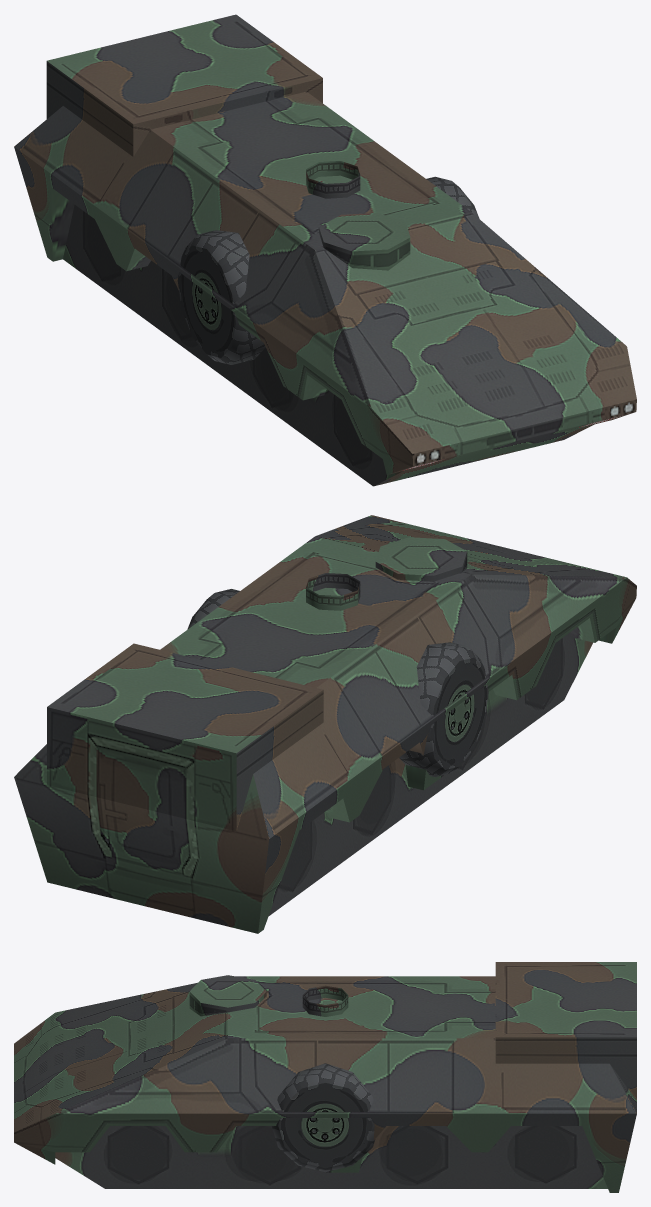
The model's file is Vehicle_APC.fbx.
3 renders of one model, top to bottom at view 1: azimuth 30°, elevation 25°; view 2: azimuth 150°, elevation 25°; view 3: azimuth 270°, elevation 25°, orthographic. The views are drawn at different scales.
Parts seen in each view (by area): view 1: APC_body, Wheels; view 2: APC_body, Wheels; view 3: APC_body, Wheels.
Part boxes in pixels (x1=…): APC_body: x1=14, y1=14, x2=636, y2=486; Wheels: x1=177, y1=176, x2=479, y2=364; APC_body: x1=14, y1=515, x2=636, y2=933; Wheels: x1=187, y1=589, x2=488, y2=776; APC_body: x1=14, y1=962, x2=636, y2=1192; Wheels: x1=272, y1=1063, x2=375, y2=1171.
Size of the model in its own units: 9.87 by 7.08 by 25.68.
1 material, 1 textured.
